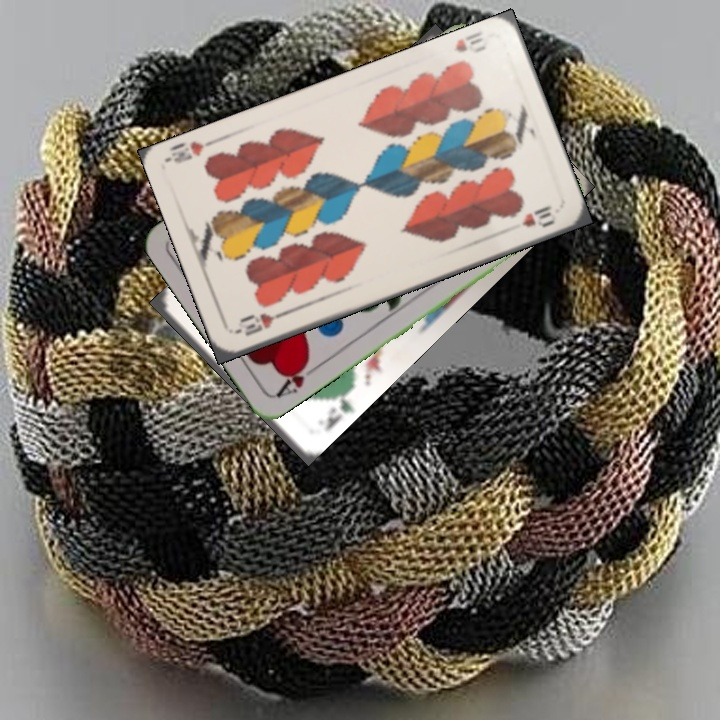GK: (321, 386, 355, 435)
H10: (232, 307, 289, 339), (451, 28, 489, 56)
HA: (272, 355, 323, 400)
